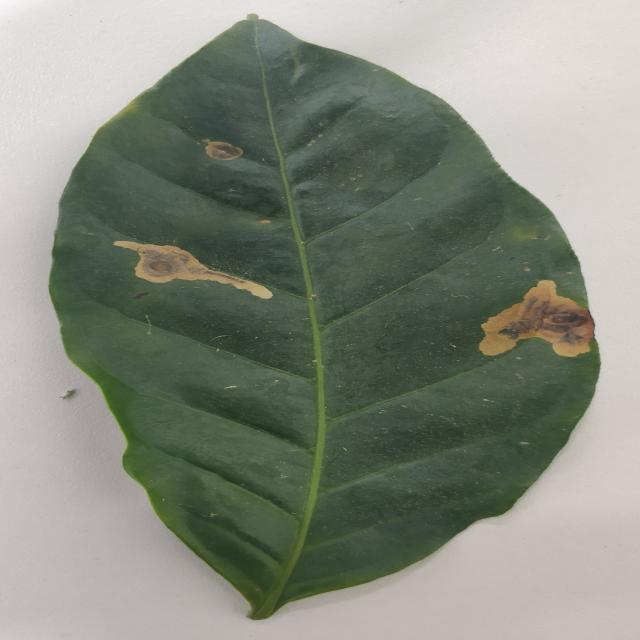Plaga-Minador: (47, 14, 602, 623)
